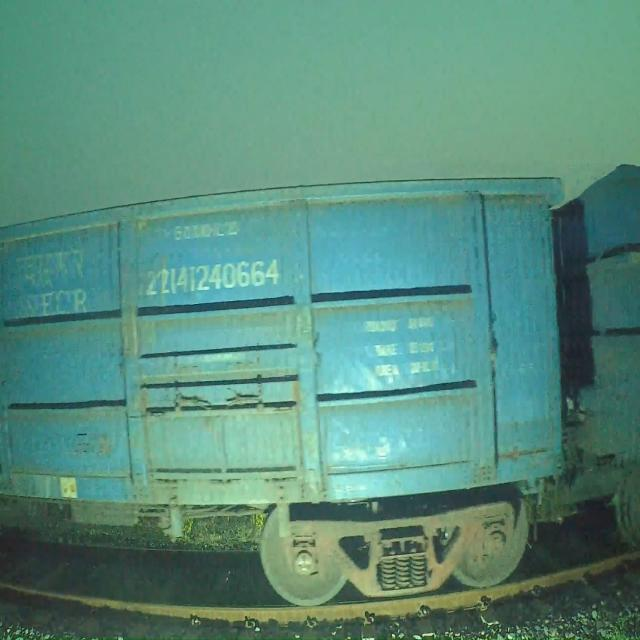WAgon-uic: (0, 175, 568, 604), (481, 165, 639, 540)
uic: (140, 245, 284, 300)
